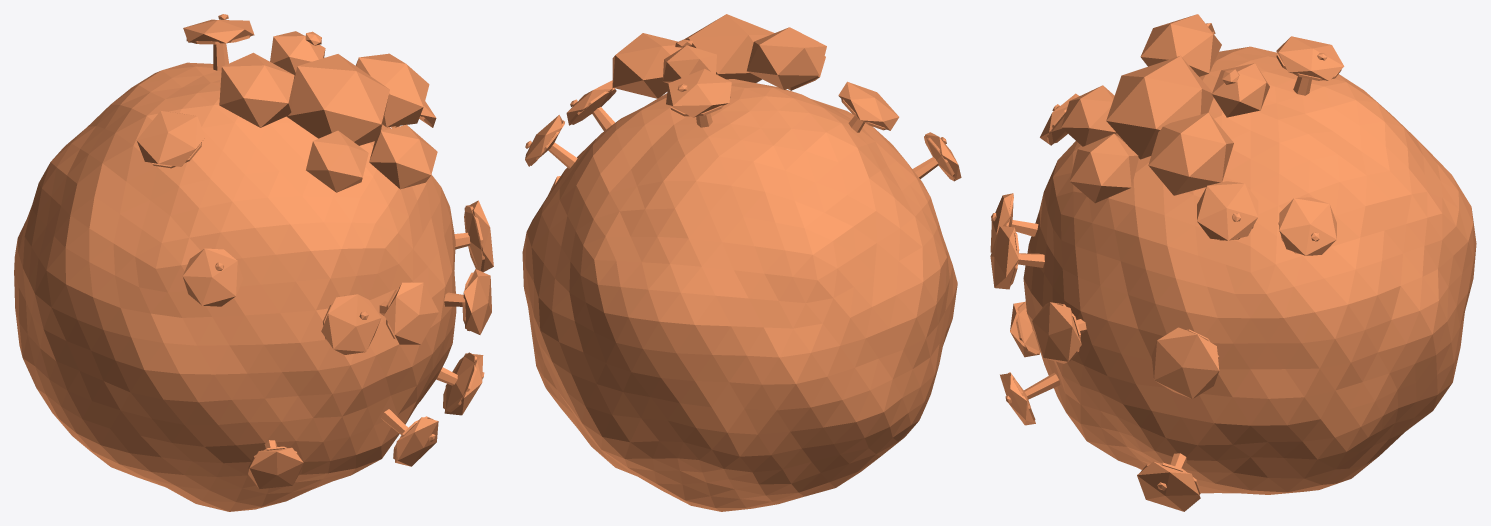
File: Mushroom_07.fbx
The picture shows the model from 3 angles, left to right: view 1: azimuth 30°, elevation 25°; view 2: azimuth 150°, elevation 25°; view 3: azimuth 270°, elevation 25°; orthographic projection. The views are drawn at different scales.
Parts seen in each view (by area): view 1: Mushroom_07; view 2: Mushroom_07; view 3: Mushroom_07.
Boxes of the visible parts, x1,y1,x2,y2 form: Mushroom_07: (14, 14, 493, 511); Mushroom_07: (522, 14, 961, 511); Mushroom_07: (990, 14, 1476, 511).
Bounding box in the file's own units: 6.51 × 6.64 × 6.58.
